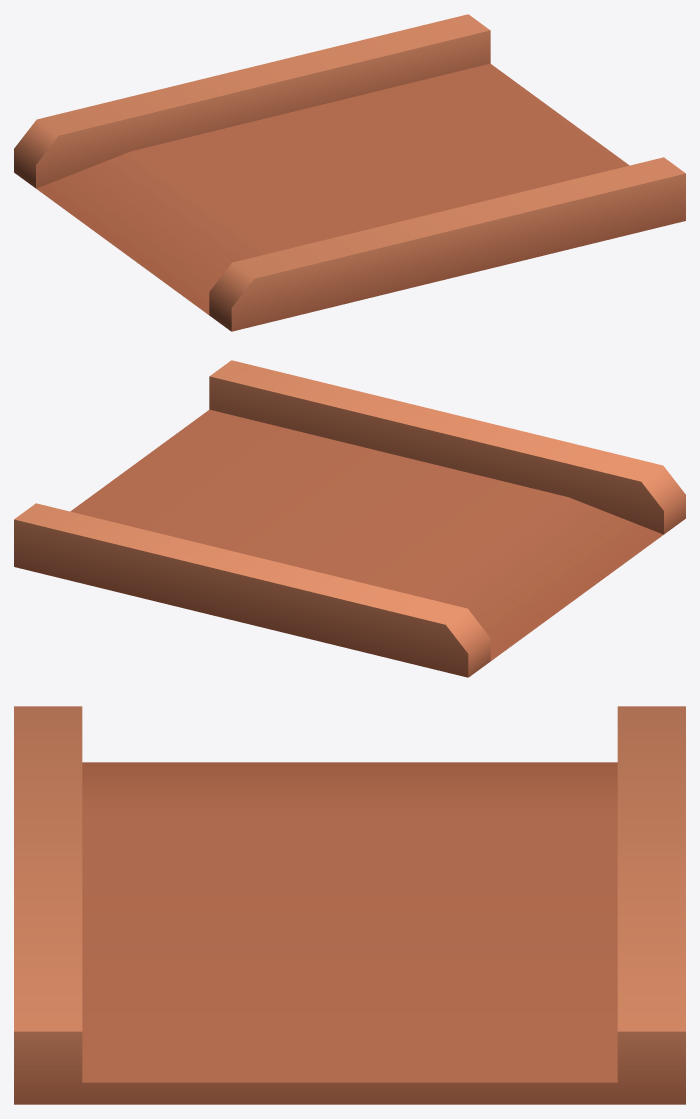
File: bridge-draw.obj
3 views of the same model, one above another, from view 1: azimuth 30°, elevation 25°; view 2: azimuth 150°, elevation 25°; view 3: azimuth 270°, elevation 25° (orthographic). The views are drawn at different scales.
Visible parts, largest first — view 1: bridge-draw; view 2: bridge-draw; view 3: bridge-draw.
Part boxes in pixels (x1,y1,x2,y2): bridge-draw: (14, 14, 685, 331); bridge-draw: (14, 360, 685, 677); bridge-draw: (14, 706, 685, 1104).
Bounding box in the file's own units: 1 × 0.1 × 0.8311.
Materials: 1 (1 with a texture image).
